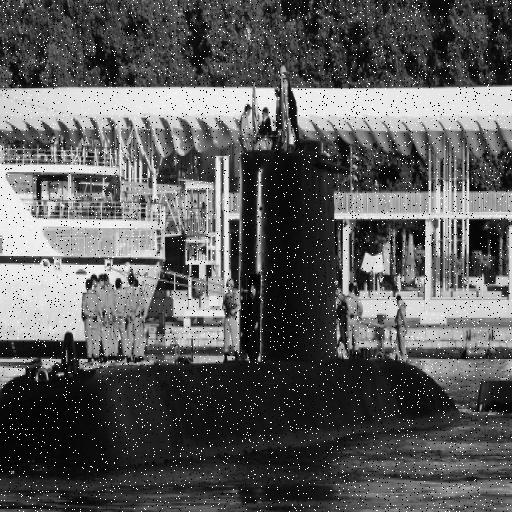submarine: (1, 144, 512, 472)
